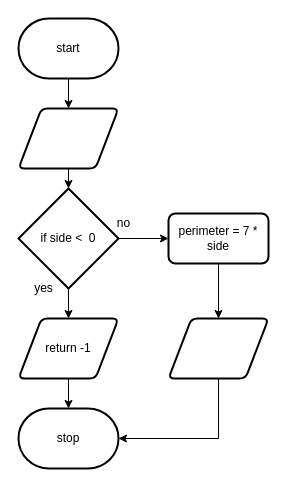
Image size: 286x486. Some labels were removed from this diagram. Here are the shapes that lost their labels. From the top down, the box of each, then its label:
(17, 107, 119, 169): get side
(167, 317, 269, 379): return perimeter
